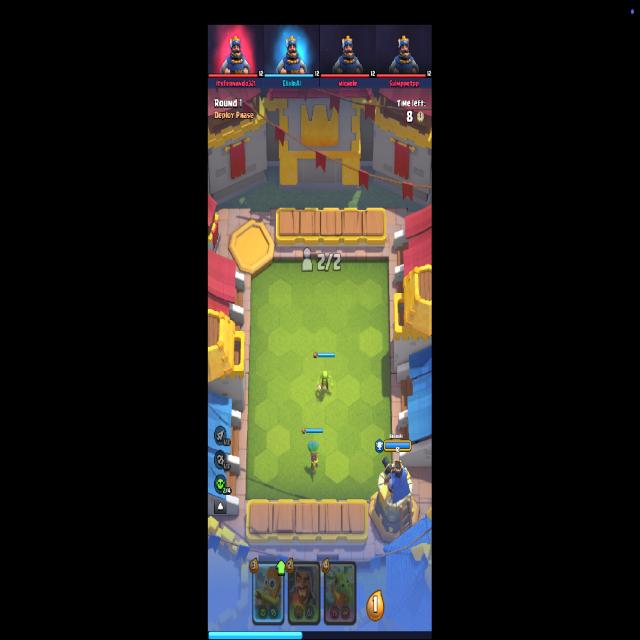card_baby_drag: (324, 559, 356, 626)
card_dart_goblin: (252, 560, 284, 626)
card_wizard: (288, 560, 320, 626)
dart_goblin: (307, 439, 319, 471)
goblin: (317, 370, 333, 395)
